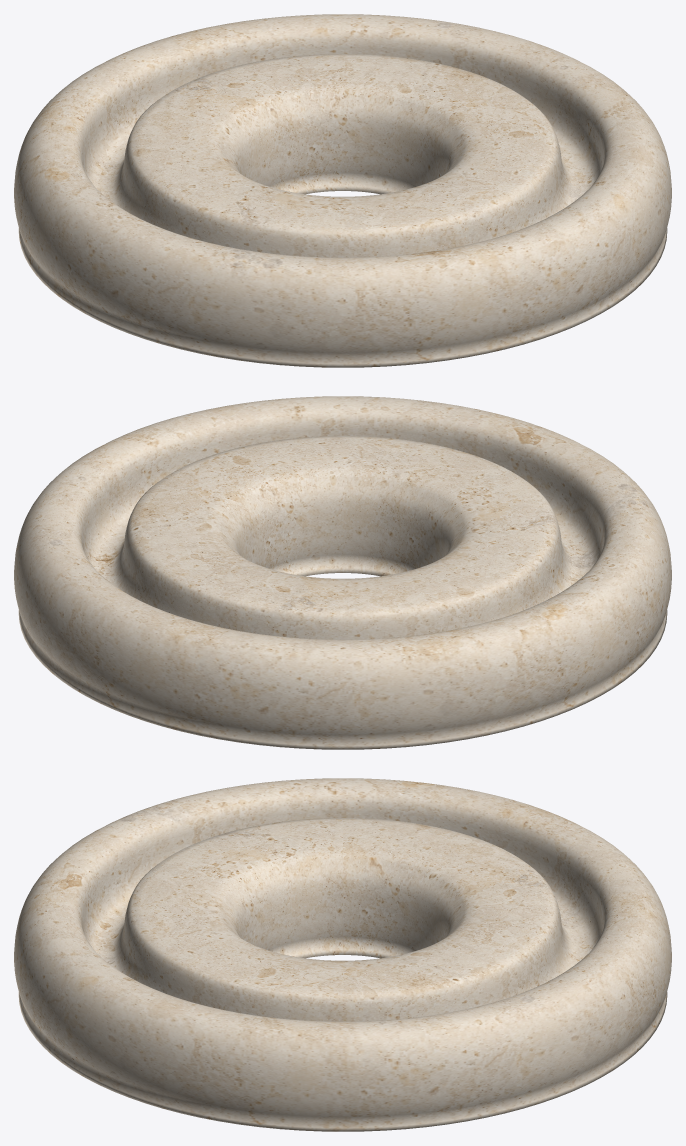
Rendered from tzaar-tzaar-white.glb.
3 views of the same model, one above another, from view 1: azimuth 30°, elevation 25°; view 2: azimuth 150°, elevation 25°; view 3: azimuth 270°, elevation 25° (orthographic).
Visible parts, largest first — view 1: tzaar-tzaar-white; view 2: tzaar-tzaar-white; view 3: tzaar-tzaar-white.
Part boxes in pixels (x1,y1,x2,y2): tzaar-tzaar-white: [14, 14, 671, 367]; tzaar-tzaar-white: [14, 396, 671, 749]; tzaar-tzaar-white: [14, 778, 671, 1131].
Size of the model in its own units: 0.028 by 0.00435 by 0.028.
Materials: 1 (1 with a texture image).
